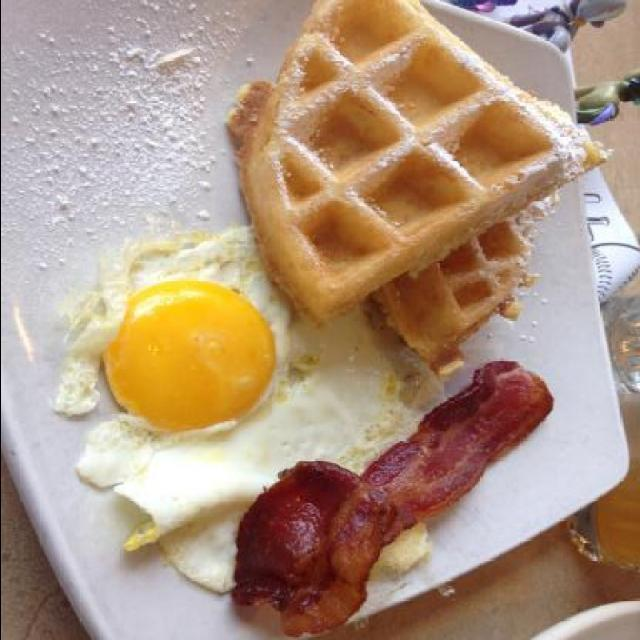Waffle: (226, 0, 608, 329), (366, 198, 566, 386)
